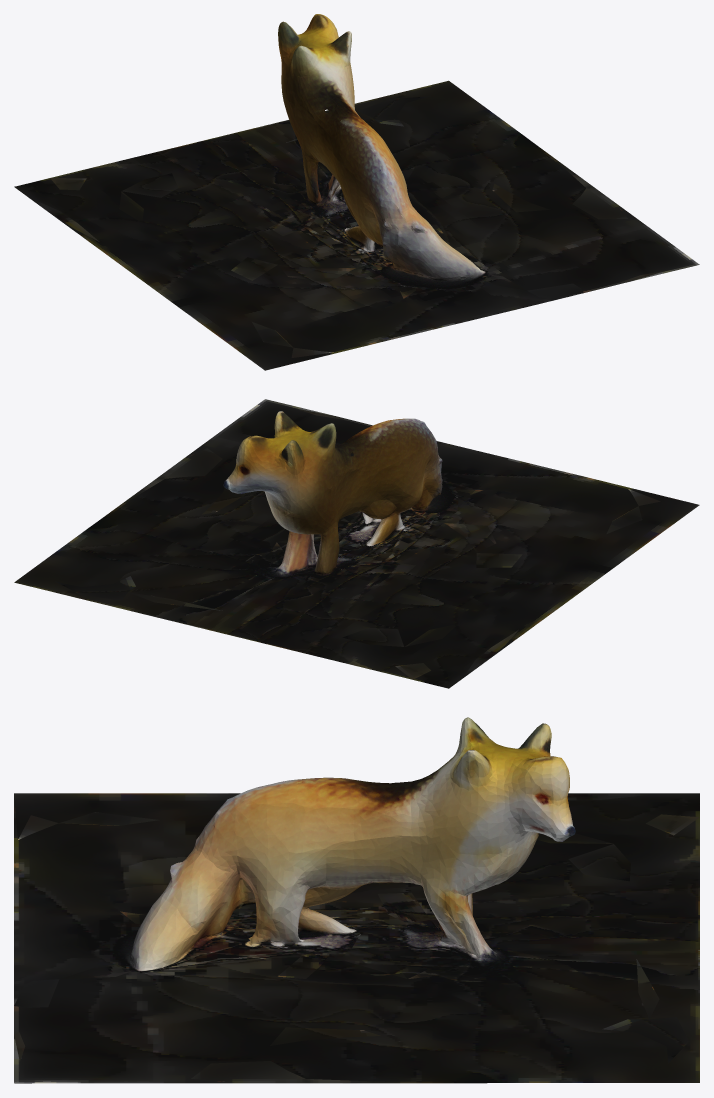
File: trellis_result.glb
3 renders of one model, top to bottom at view 1: azimuth 30°, elevation 25°; view 2: azimuth 150°, elevation 25°; view 3: azimuth 270°, elevation 25°, orthographic. The views are drawn at different scales.
Visible parts, largest first — view 1: world; view 2: world; view 3: world.
Part boxes in pixels (x1,y1,x2,y2): world: (14, 14, 699, 370); world: (14, 399, 699, 688); world: (14, 717, 699, 1083).
Bounding box in the file's own units: 1 × 0.354 × 1.
1 material, 1 textured.
